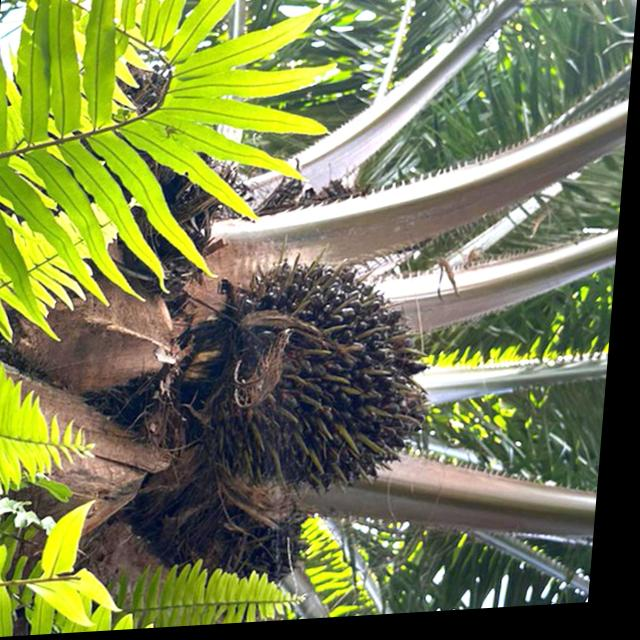almost: (211, 246, 449, 504)
